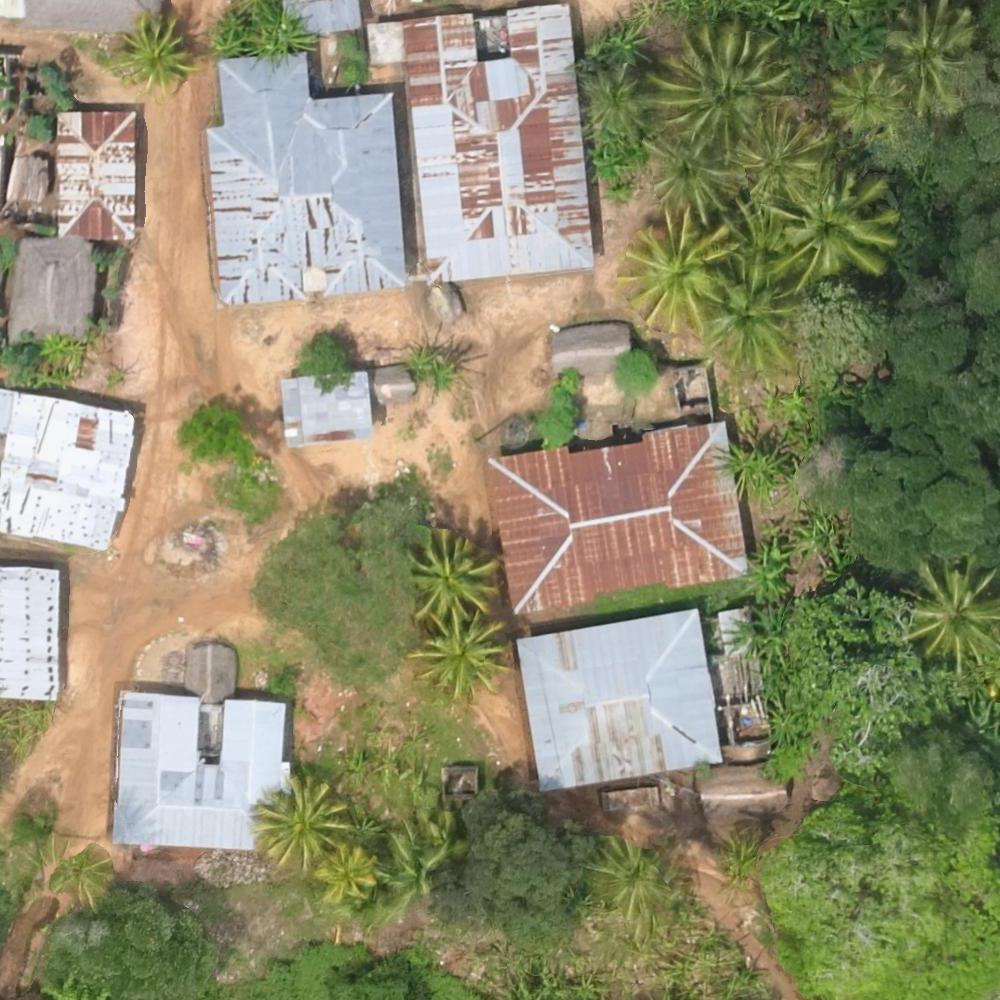Palm: (651, 28, 788, 148), (765, 177, 897, 279), (629, 213, 737, 332), (700, 268, 806, 376), (882, 2, 980, 102), (906, 563, 998, 669), (405, 534, 504, 623), (414, 613, 510, 698), (739, 115, 831, 202), (251, 784, 340, 871), (651, 140, 741, 217), (591, 840, 671, 921), (831, 64, 911, 133), (115, 19, 188, 89), (312, 849, 375, 902)
